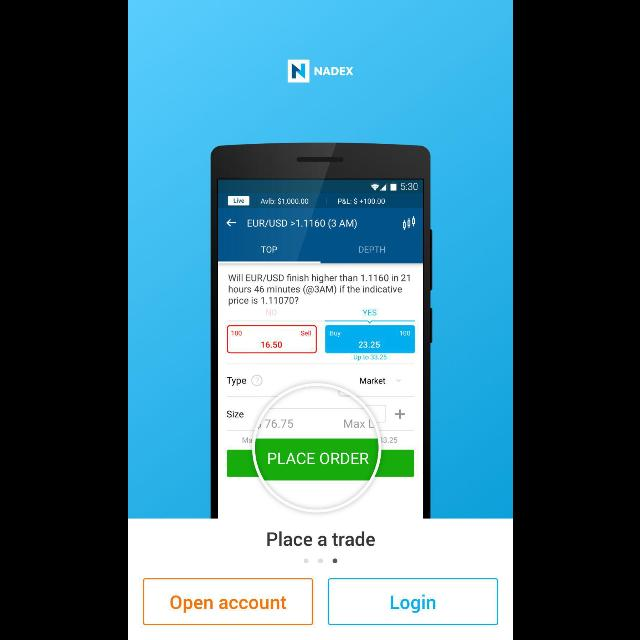image: (210, 143, 432, 519), (287, 59, 309, 82)
pageindicator: (303, 558, 337, 564)
text: (266, 532, 374, 546), (314, 66, 352, 76)
textbutton: (327, 578, 497, 626), (142, 578, 312, 624)
